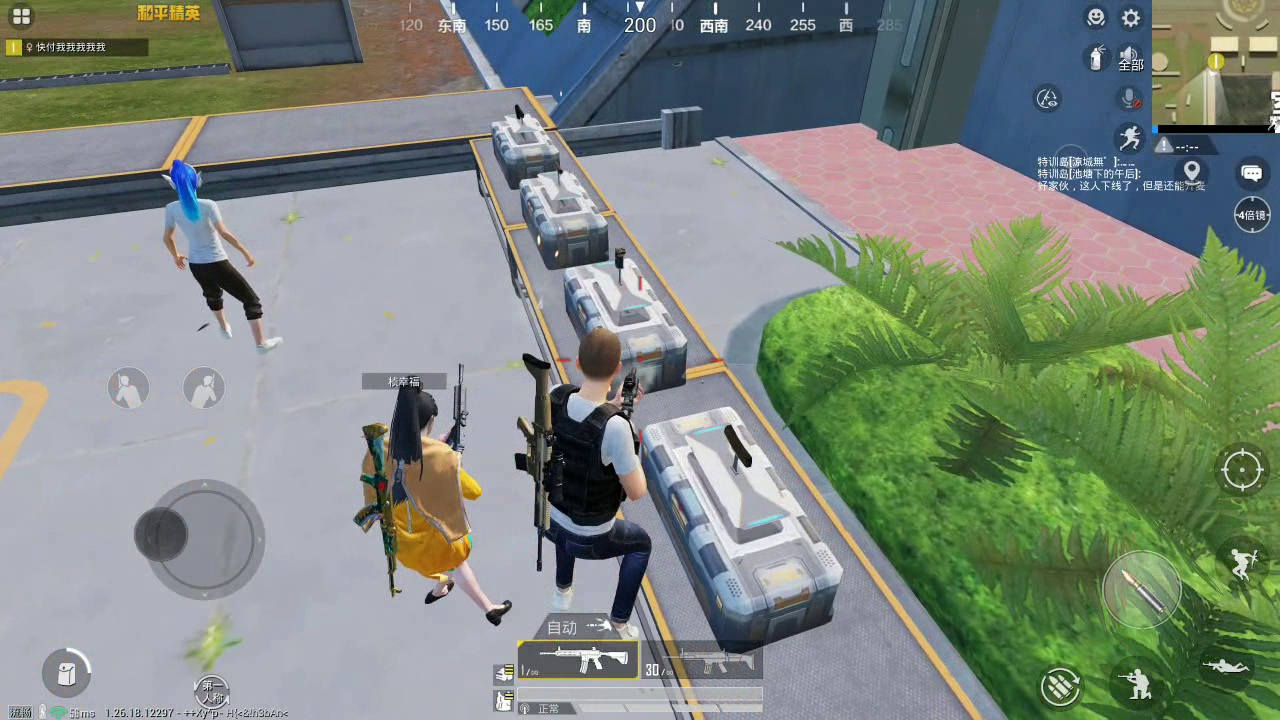enemy: (358, 387, 515, 624), (158, 159, 288, 352)
